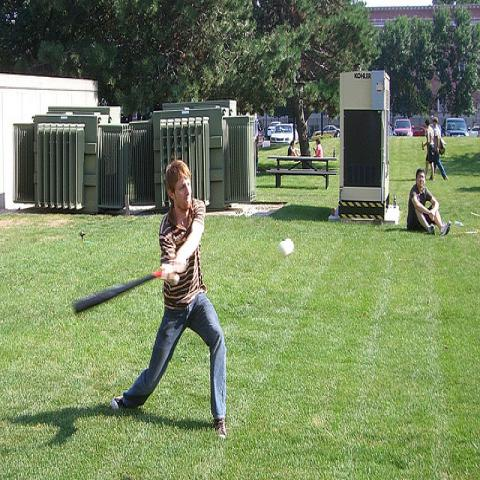car: (442, 117, 470, 137), (270, 124, 293, 145), (391, 119, 414, 138), (312, 125, 340, 138), (268, 121, 282, 140), (412, 125, 426, 136), (470, 126, 480, 137)
